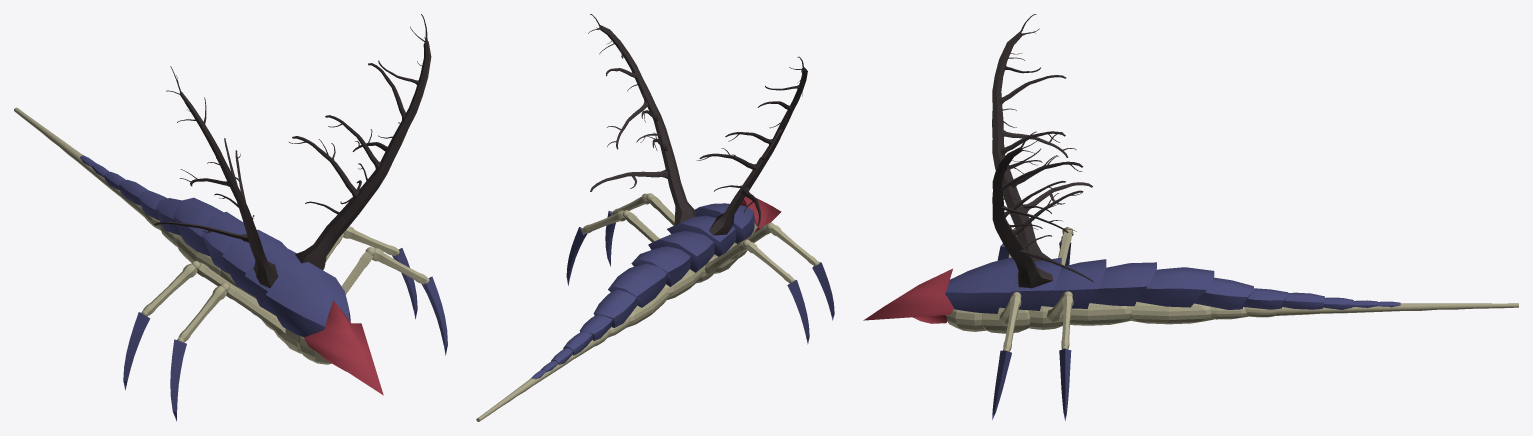
Rendered from Screecher.fbx.
3 views of the same model, side by side, from view 1: azimuth 30°, elevation 25°; view 2: azimuth 150°, elevation 25°; view 3: azimuth 270°, elevation 25° (orthographic). The views are drawn at different scales.
Visible parts, largest first — view 1: pPrism9 (×2), pCube1, pPyramid1, pCube9, pCube7, pPrism7 (×2), pCube8, pPrism5 (×2), pPrism1 (×2), pPrism6 (×2), pPrism8 (×2), pCube2 (+7 smaller); view 2: pPrism9 (×2), pCube9, pCube7, pCube8, pCube2, pCube10, pCube1, pPrism8 (×2), pPrism4 (×2), pPrism6 (×2), pCylinder1, pSphere5 (+7 smaller); view 3: pPrism9 (×2), pCube1, pCube9, pPyramid1, pCube8, pCube7, pCylinder1, pSphere5, pCube10, pCube2, pSphere4, pSphere2 (+3 smaller).
Boxes of the visible parts, <box> form: pPrism9 (×2): <box>180,41,431,288</box>; pCube1: <box>266,262,350,337</box>; pPyramid1: <box>304,300,383,395</box>; pCube9: <box>173,197,223,256</box>; pCube7: <box>222,229,286,296</box>; pPrism7 (×2): <box>170,276,447,421</box>; pCube8: <box>202,211,246,273</box>; pPrism5 (×2): <box>178,248,426,341</box>; pPrism1 (×2): <box>226,251,372,337</box>; pPrism6 (×2): <box>143,226,397,315</box>; pPrism8 (×2): <box>123,248,417,390</box>; pCube2: <box>244,246,301,314</box>; pPrism9 (×2): <box>599,25,807,235</box>; pCube9: <box>608,263,667,307</box>; pCube7: <box>648,231,714,272</box>; pCube8: <box>631,246,690,286</box>; pCube2: <box>667,215,736,256</box>; pCube10: <box>593,289,637,327</box>; pCube1: <box>694,203,754,243</box>; pPrism8 (×2): <box>566,227,809,344</box>; pPrism4 (×2): <box>625,212,746,274</box>; pPrism6 (×2): <box>583,210,792,282</box>; pCylinder1: <box>476,340,596,421</box>; pSphere5: <box>627,287,668,327</box>; pPrism9 (×2): <box>992,32,1052,288</box>; pCube1: <box>945,257,1017,313</box>; pCube9: <box>1137,267,1214,307</box>; pPyramid1: <box>863,268,953,320</box>; pCube8: <box>1090,262,1156,306</box>; pCube7: <box>1041,259,1106,308</box>; pCylinder1: <box>1275,303,1518,315</box>; pSphere5: <box>1130,302,1214,324</box>; pCube10: <box>1194,277,1253,309</box>; pCube2: <box>1000,257,1061,310</box>; pSphere4: <box>1060,303,1133,325</box>; pSphere2: <box>982,307,1030,333</box>.
Size of the model in its own units: 9.04 by 9.78 by 19.55.
